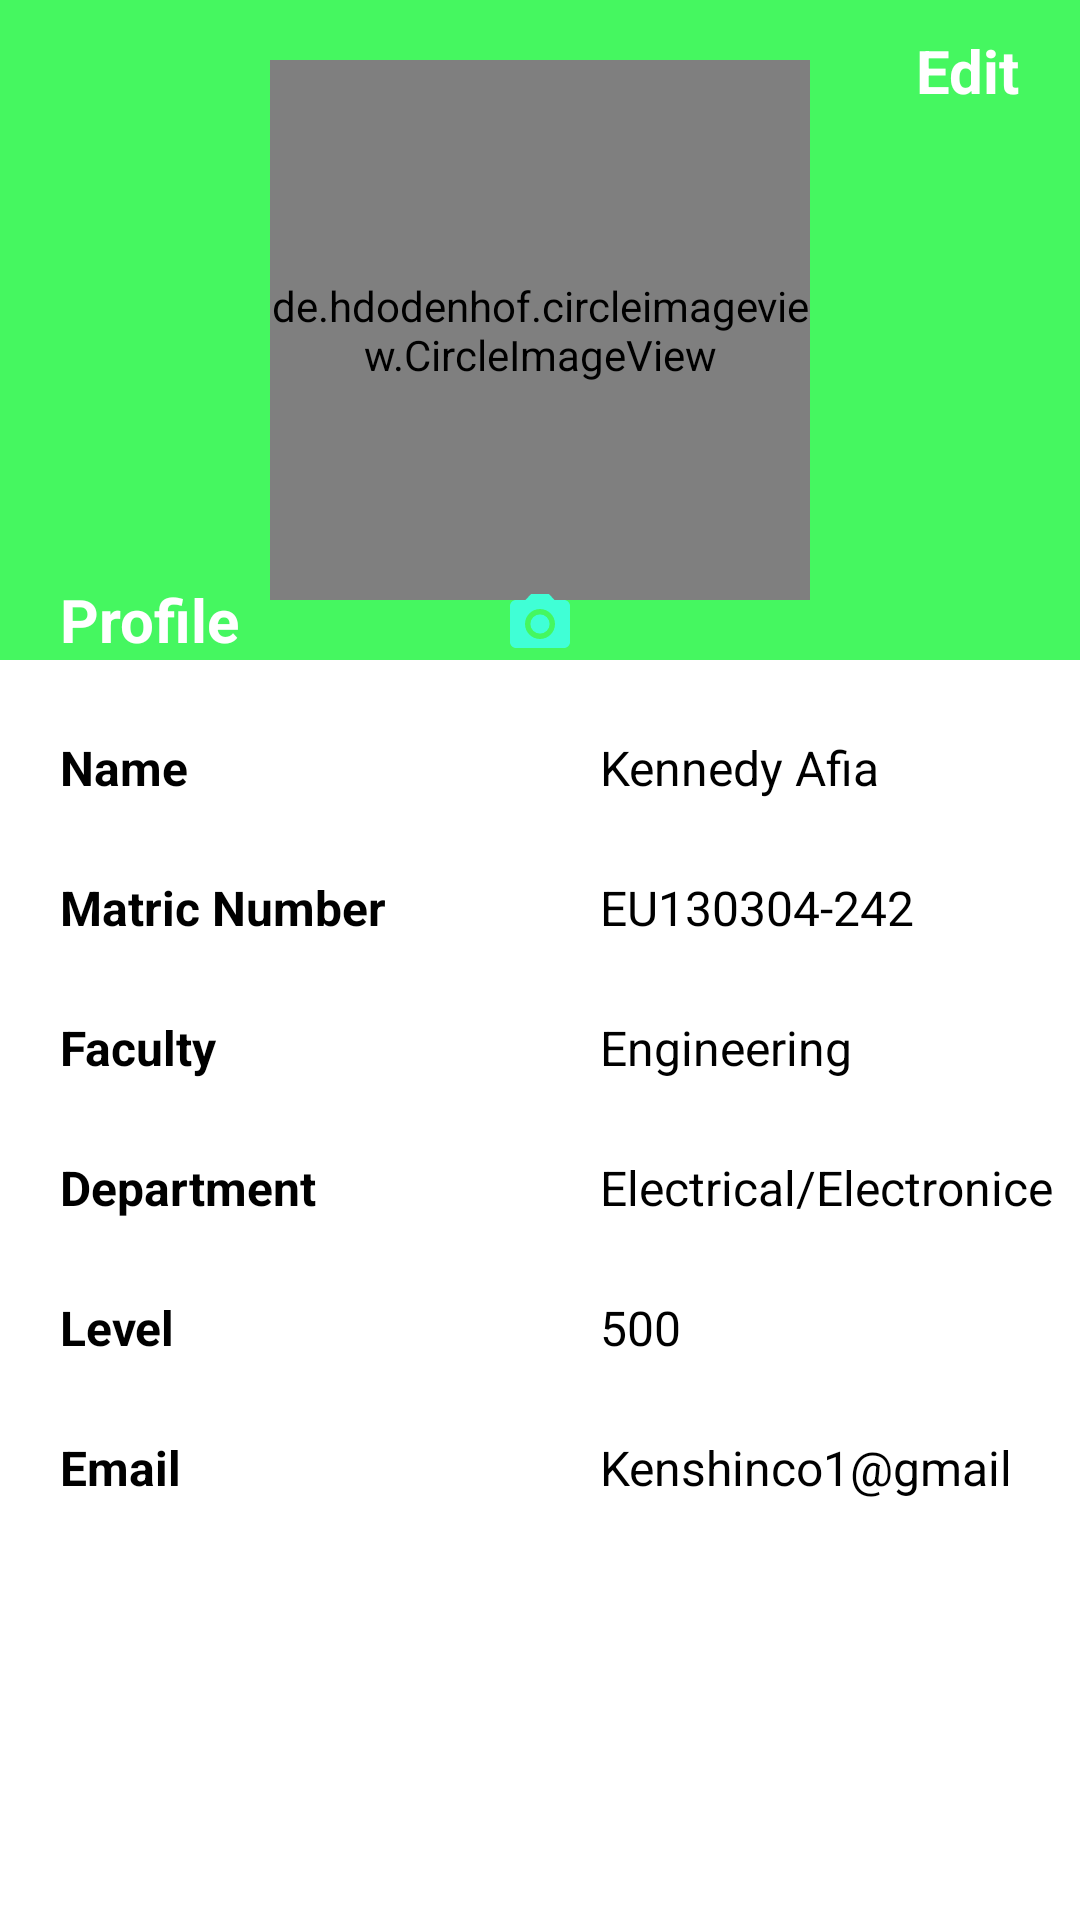

Icon click points for this 1080*1920 phone screenshot, format (x,y):
photo camera: (540,624)
